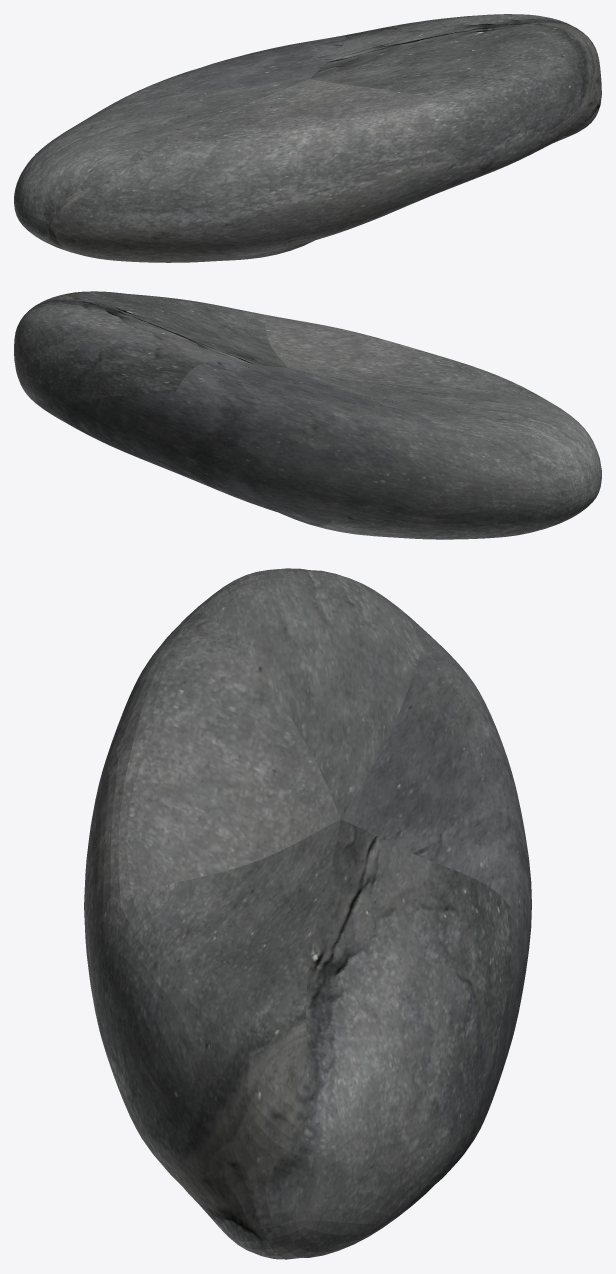
File: eros.glb
3 views of the same model, one above another, from view 1: azimuth 30°, elevation 25°; view 2: azimuth 150°, elevation 25°; view 3: azimuth 270°, elevation 25° (orthographic). The views are drawn at different scales.
Visible parts, largest first — view 1: Icosphere; view 2: Icosphere; view 3: Icosphere.
Part boxes in pixels (<box>): Icosphere: <box>14,14,601,262</box>; Icosphere: <box>14,291,601,539</box>; Icosphere: <box>84,568,531,1259</box>.
Bounding box in the file's own units: 6.85 × 1.87 × 2.31.
1 material, 1 textured.
